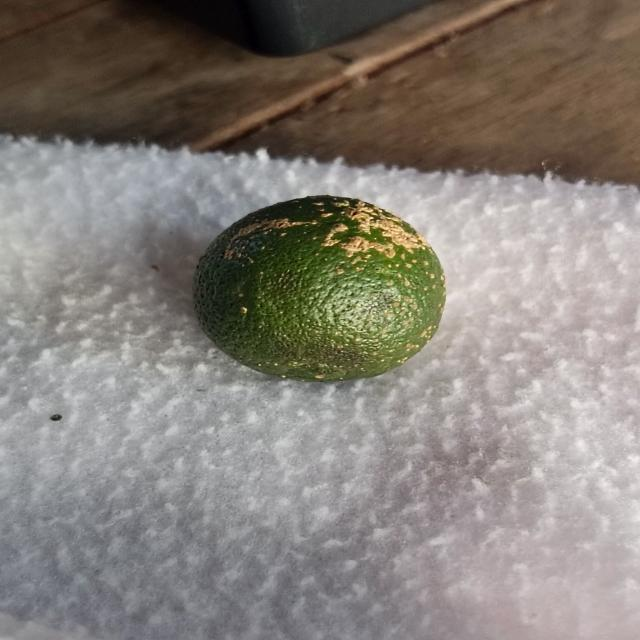scab: (190, 191, 453, 385)
